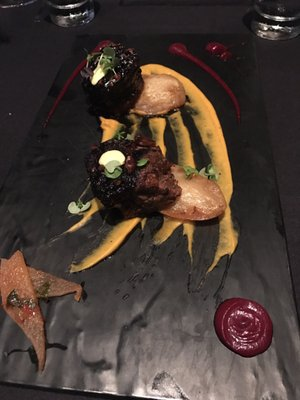pizza: (249, 0, 300, 41), (44, 0, 96, 28)
